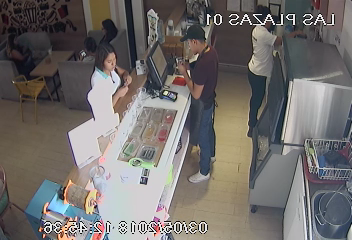ocupado: (6, 26, 101, 101)
